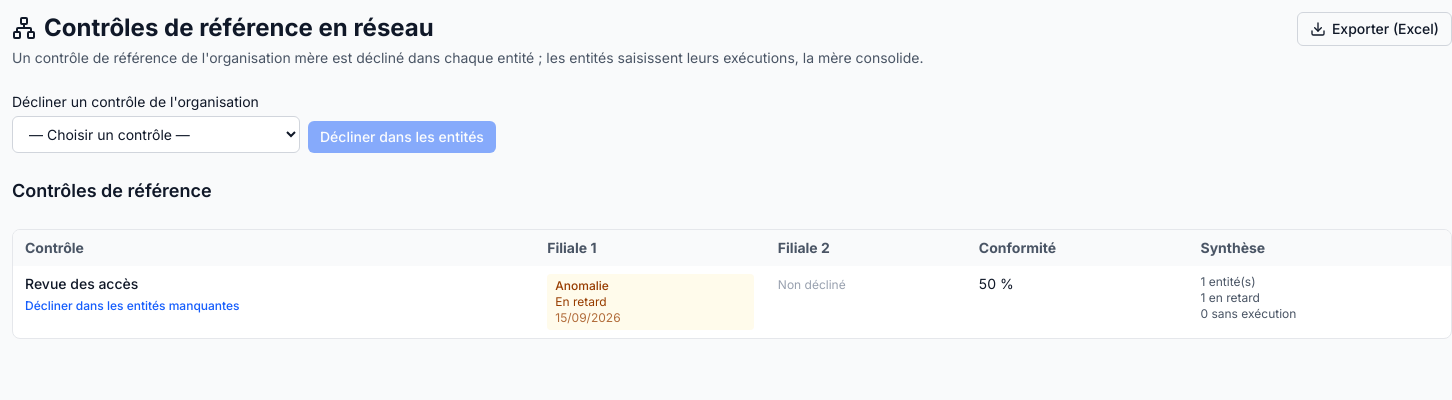
Test: ControlesReseauView › décline un contrôle candidat (POST) puis recharge
The image size is (1452, 400).
Select "Sauvegardes testées" in the dropdown labelled "Décliner un contrôle de l'organisation" at (156, 134), box [12,116,300,153]
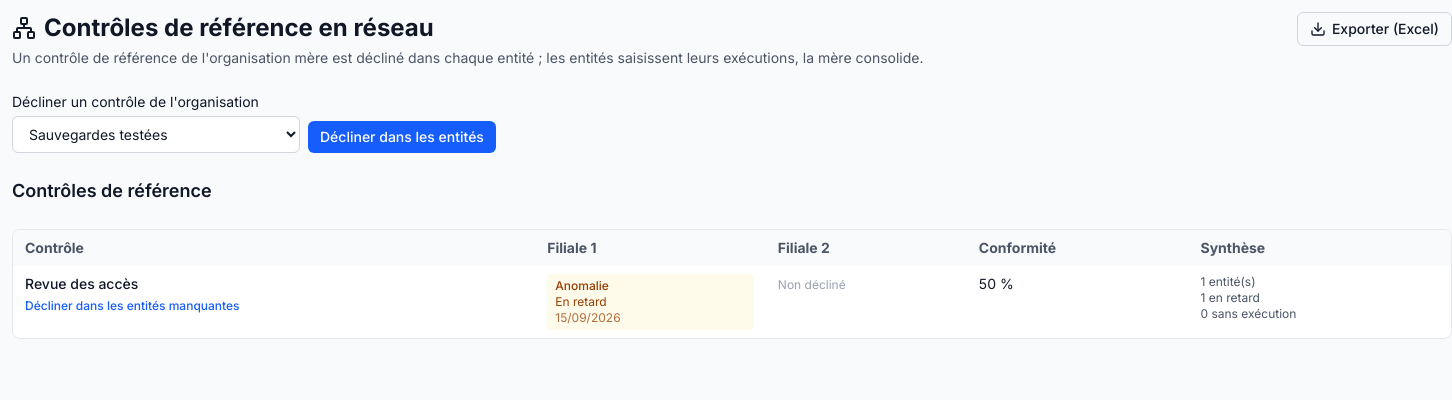
Click the button "Décliner dans les entités" at (402, 137), box [308,121,496,153]
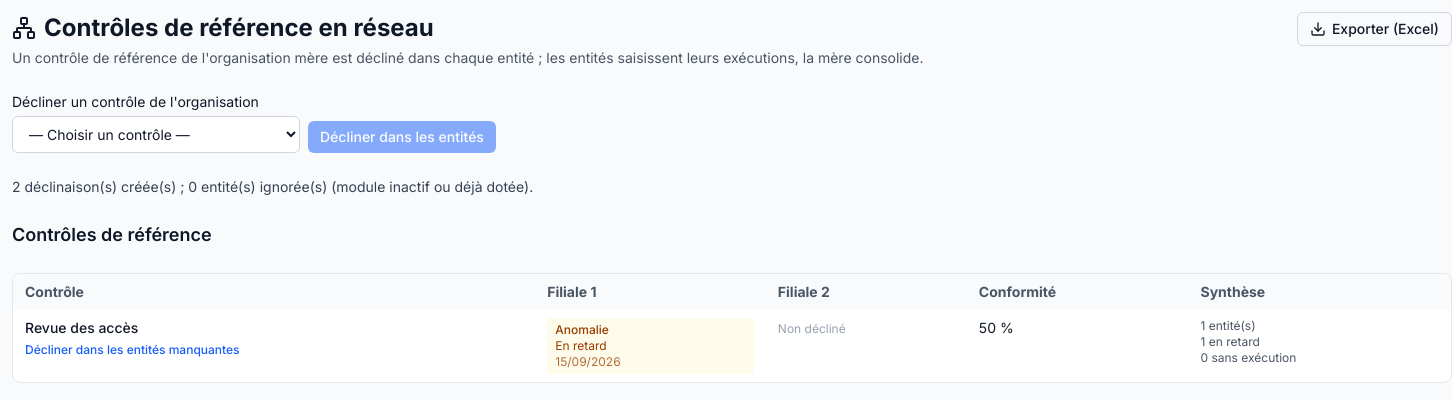
expect the text "2 déclinaison(s) créée(s)" is shown: met, box [12,178,533,195]
